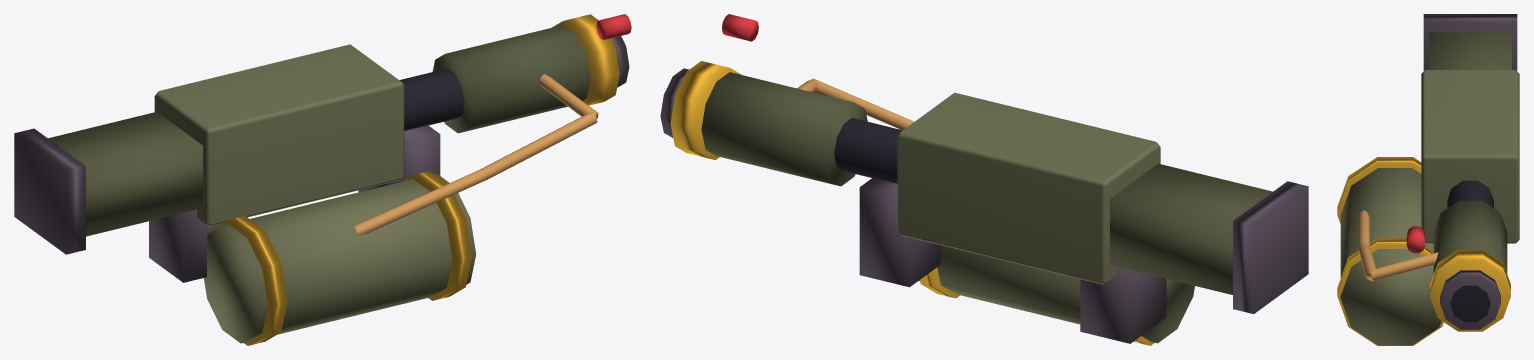
The picture shows the model from 3 angles, left to right: view 1: azimuth 30°, elevation 25°; view 2: azimuth 150°, elevation 25°; view 3: azimuth 270°, elevation 25°; orthographic projection. The views are drawn at different scales.
Parts seen in each view (by area): view 1: body, static_oliveSeam, static_asphalt, static_schoolBusYellow, static_brass, static_uiDark, pilot_light; view 2: body, static_oliveSeam, static_asphalt, static_schoolBusYellow, static_uiDark, static_brass, pilot_light; view 3: body, static_oliveSeam, static_schoolBusYellow, static_asphalt, static_uiDark, static_brass, pilot_light.
Part boxes in pixels (x1,y1,x2,y2): body: (154,44,476,343); static_oliveSeam: (48,25,590,236); static_asphalt: (14,36,629,282); static_schoolBusYellow: (213,14,619,345); static_brass: (354,74,598,235); static_uiDark: (399,68,464,130); pilot_light: (596,14,631,40); body: (897,92,1194,343); static_oliveSeam: (701,72,1272,294); static_asphalt: (660,68,1308,343); static_schoolBusYellow: (670,61,1154,345); static_uiDark: (834,118,902,183); static_brass: (797,78,914,130); pilot_light: (722,14,758,41); body: (1340,70,1519,345); static_oliveSeam: (1429,32,1511,273); static_schoolBusYellow: (1337,157,1510,345); static_asphalt: (1423,14,1517,329); static_uiDark: (1447,180,1493,322); static_brass: (1358,210,1438,281); pilot_light: (1406,226,1425,253).
Size of the model in its own units: 1.15 by 0.4166 by 0.352.
